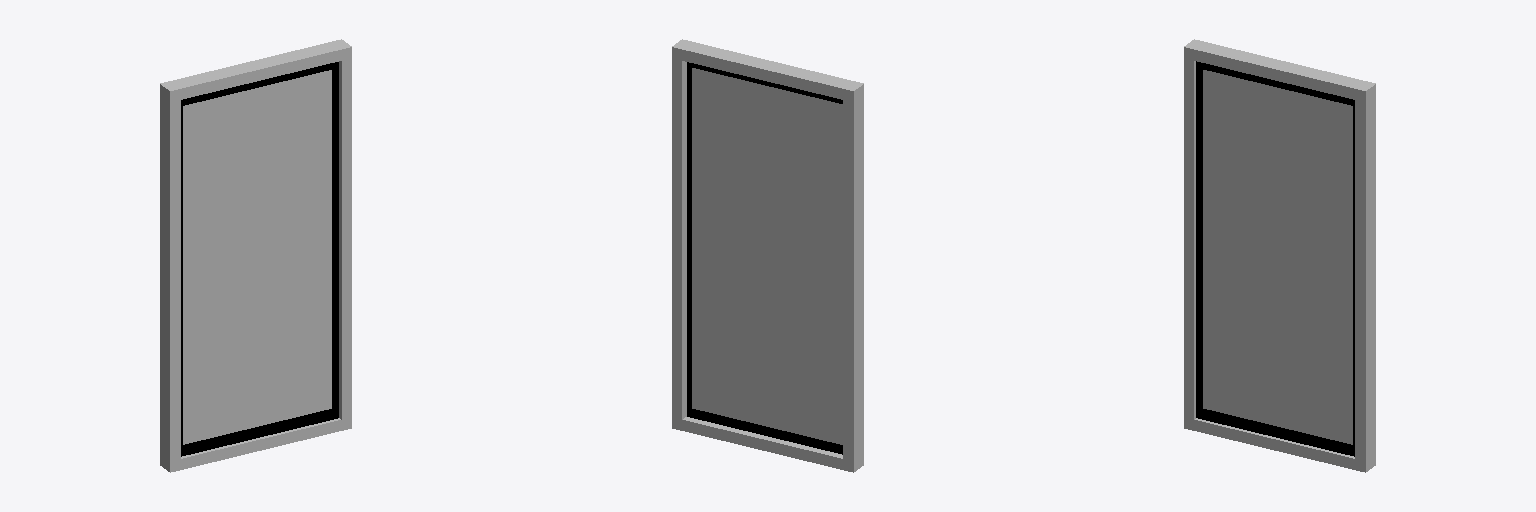
Rendered from window.obj.
3 renders of one model, left to right at view 1: azimuth 30°, elevation 25°; view 2: azimuth 150°, elevation 25°; view 3: azimuth 330°, elevation 25°, orthographic.
Visible parts, largest first — view 1: window_pane, frame, inner_frame; view 2: window_pane, frame, inner_frame; view 3: window_pane, frame, inner_frame.
Part boxes in pixels (bbox=[...]): window_pane: bbox=[183, 70, 331, 444]; frame: bbox=[160, 39, 351, 472]; inner_frame: bbox=[181, 62, 338, 456]; window_pane: bbox=[692, 68, 842, 444]; frame: bbox=[672, 39, 863, 472]; inner_frame: bbox=[687, 62, 842, 454]; window_pane: bbox=[1203, 70, 1352, 444]; frame: bbox=[1184, 39, 1375, 472]; inner_frame: bbox=[1196, 61, 1354, 456].
Size of the model in its own units: 1 by 2 by 0.1.